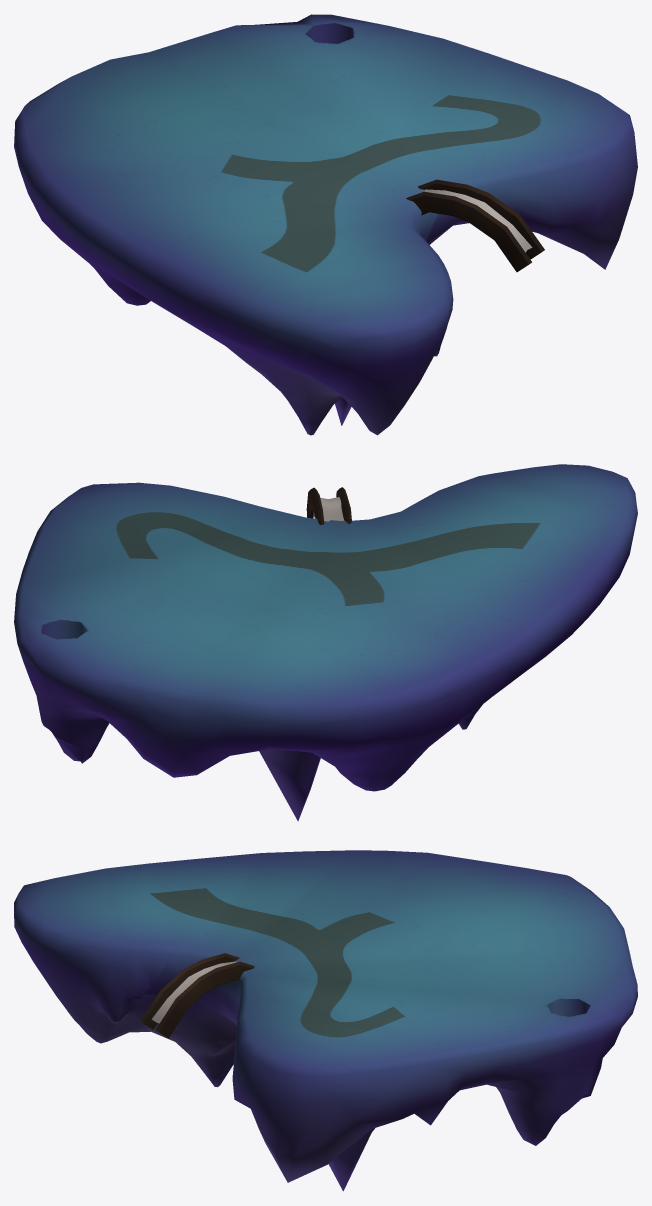
Rendered from island_tower_1.fbx.
The picture shows the model from 3 angles, top to bottom: view 1: azimuth 30°, elevation 25°; view 2: azimuth 150°, elevation 25°; view 3: azimuth 270°, elevation 25°; orthographic projection. The views are drawn at different scales.
Parts seen in each view (by area): view 1: island_tower_1; view 2: island_tower_1; view 3: island_tower_1.
Part boxes in pixels (box(x1,y1,x2,y2)): island_tower_1: box(14, 14, 637, 435); island_tower_1: box(14, 464, 637, 821); island_tower_1: box(14, 850, 637, 1191).
Bounding box in the file's own units: 2798 × 1442 × 3313.
Materials: 1 (1 with a texture image).
